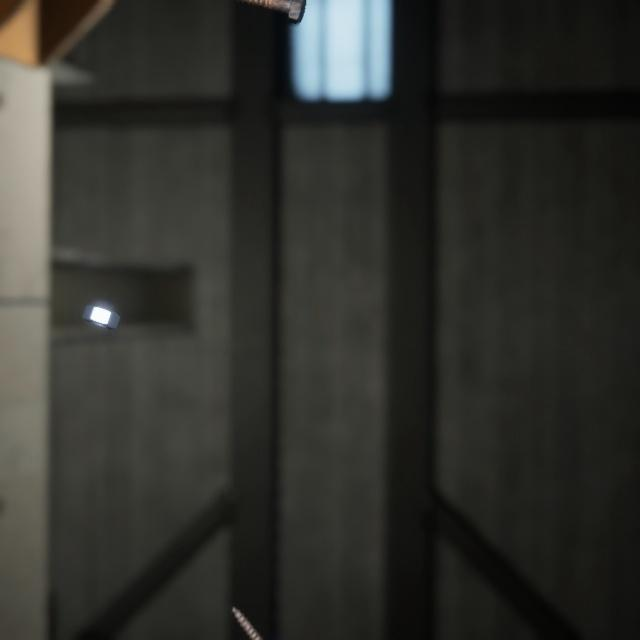bolt: (227, 577, 288, 640)
nut: (78, 282, 124, 316)
